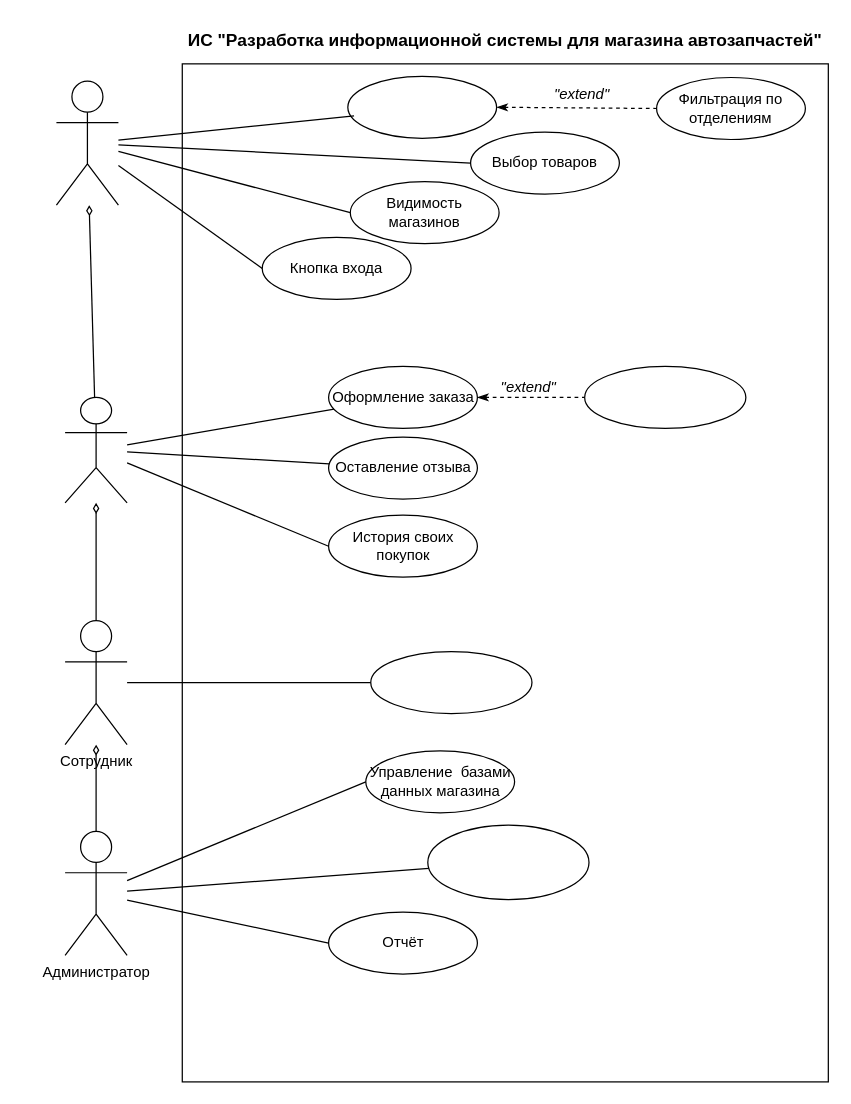
This 851x1104 diagram has some shape labels left out. Here are the shapes that lost their labels. From the top down, the box of each, then its label:
(347, 75, 497, 138): Просмотр товаров
(55, 80, 118, 205): Неавторизованный пользователь
(583, 365, 746, 428): Отказ от заказа
(64, 396, 127, 503): Авторизованный пользователь
(370, 650, 532, 714): Обработка заказа
(427, 824, 589, 900): Управление пользователями
